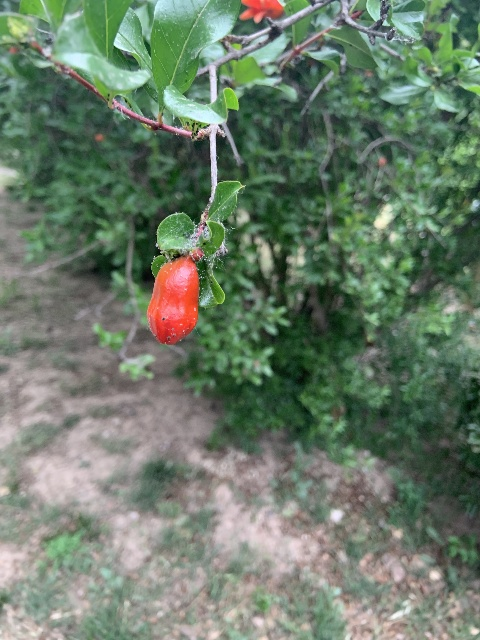bud: (147, 253, 199, 347)
flower: (237, 0, 284, 24)
